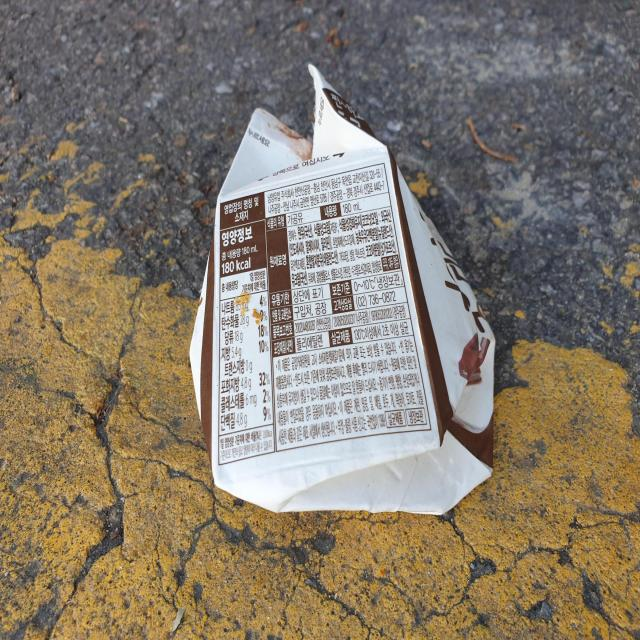paperpack: (190, 65, 495, 514)
